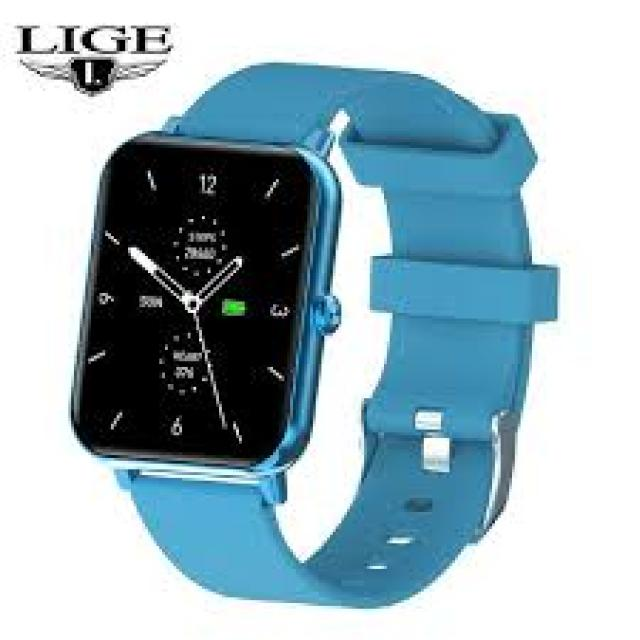objects: (74, 63, 555, 608)
